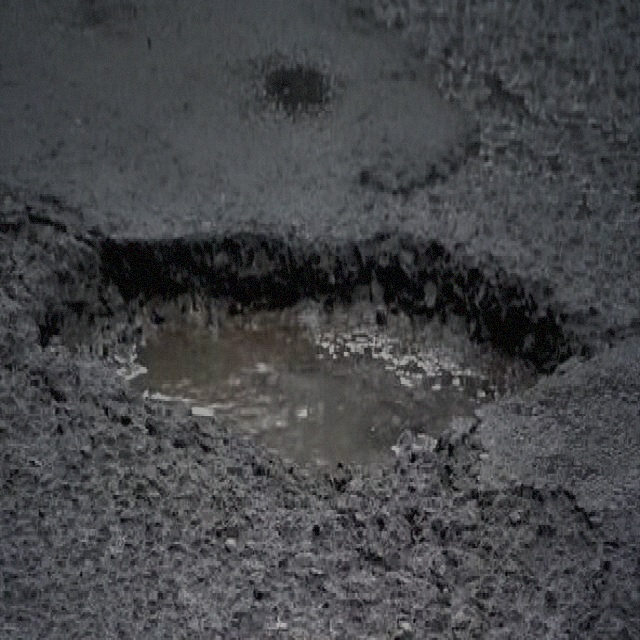pothole: (31, 217, 598, 488), (256, 47, 336, 122)
